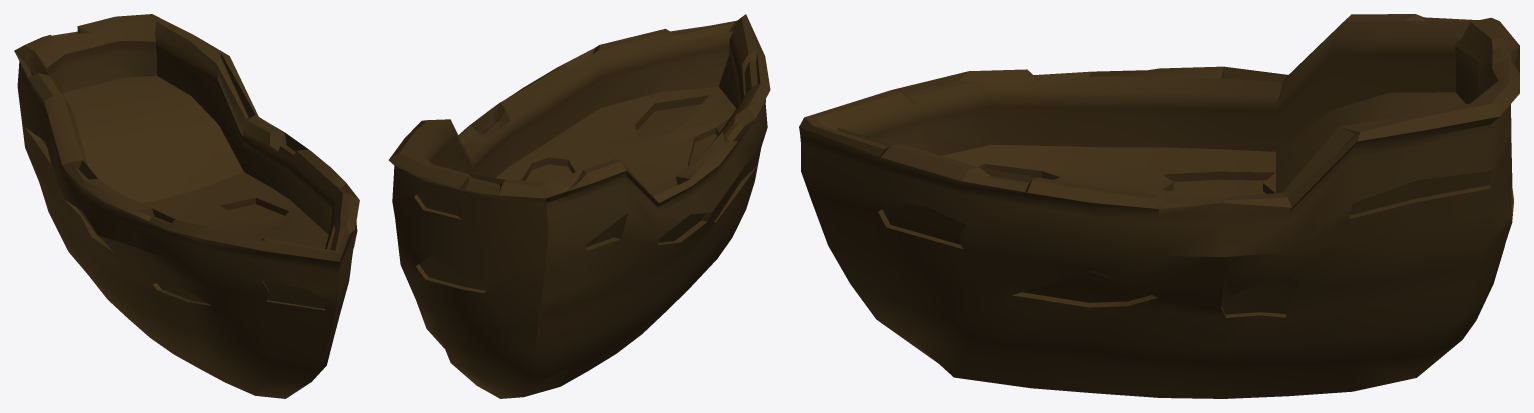
The picture shows the model from 3 angles, left to right: view 1: azimuth 30°, elevation 25°; view 2: azimuth 150°, elevation 25°; view 3: azimuth 270°, elevation 25°; orthographic projection. The views are drawn at different scales.
Visible parts, largest first — view 1: barco102; view 2: barco102; view 3: barco102.
Part boxes in pixels (box(x1,y1,x2,y2)): barco102: box(14, 14, 359, 398); barco102: box(388, 14, 770, 398); barco102: box(799, 14, 1519, 398).
Size of the model in its own units: 2.22 by 2.45 by 4.8.
